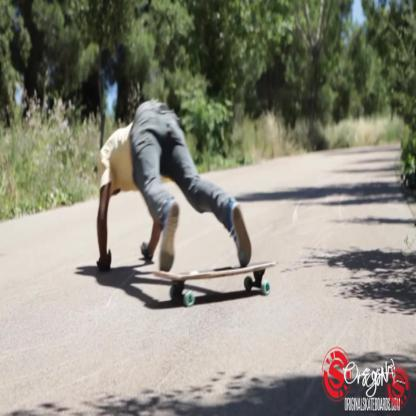Fall_Down: (95, 103, 253, 276)
